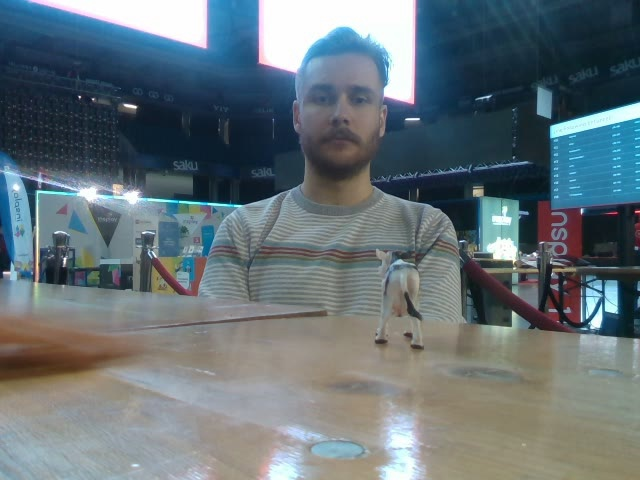toy: (374, 248, 424, 350)
